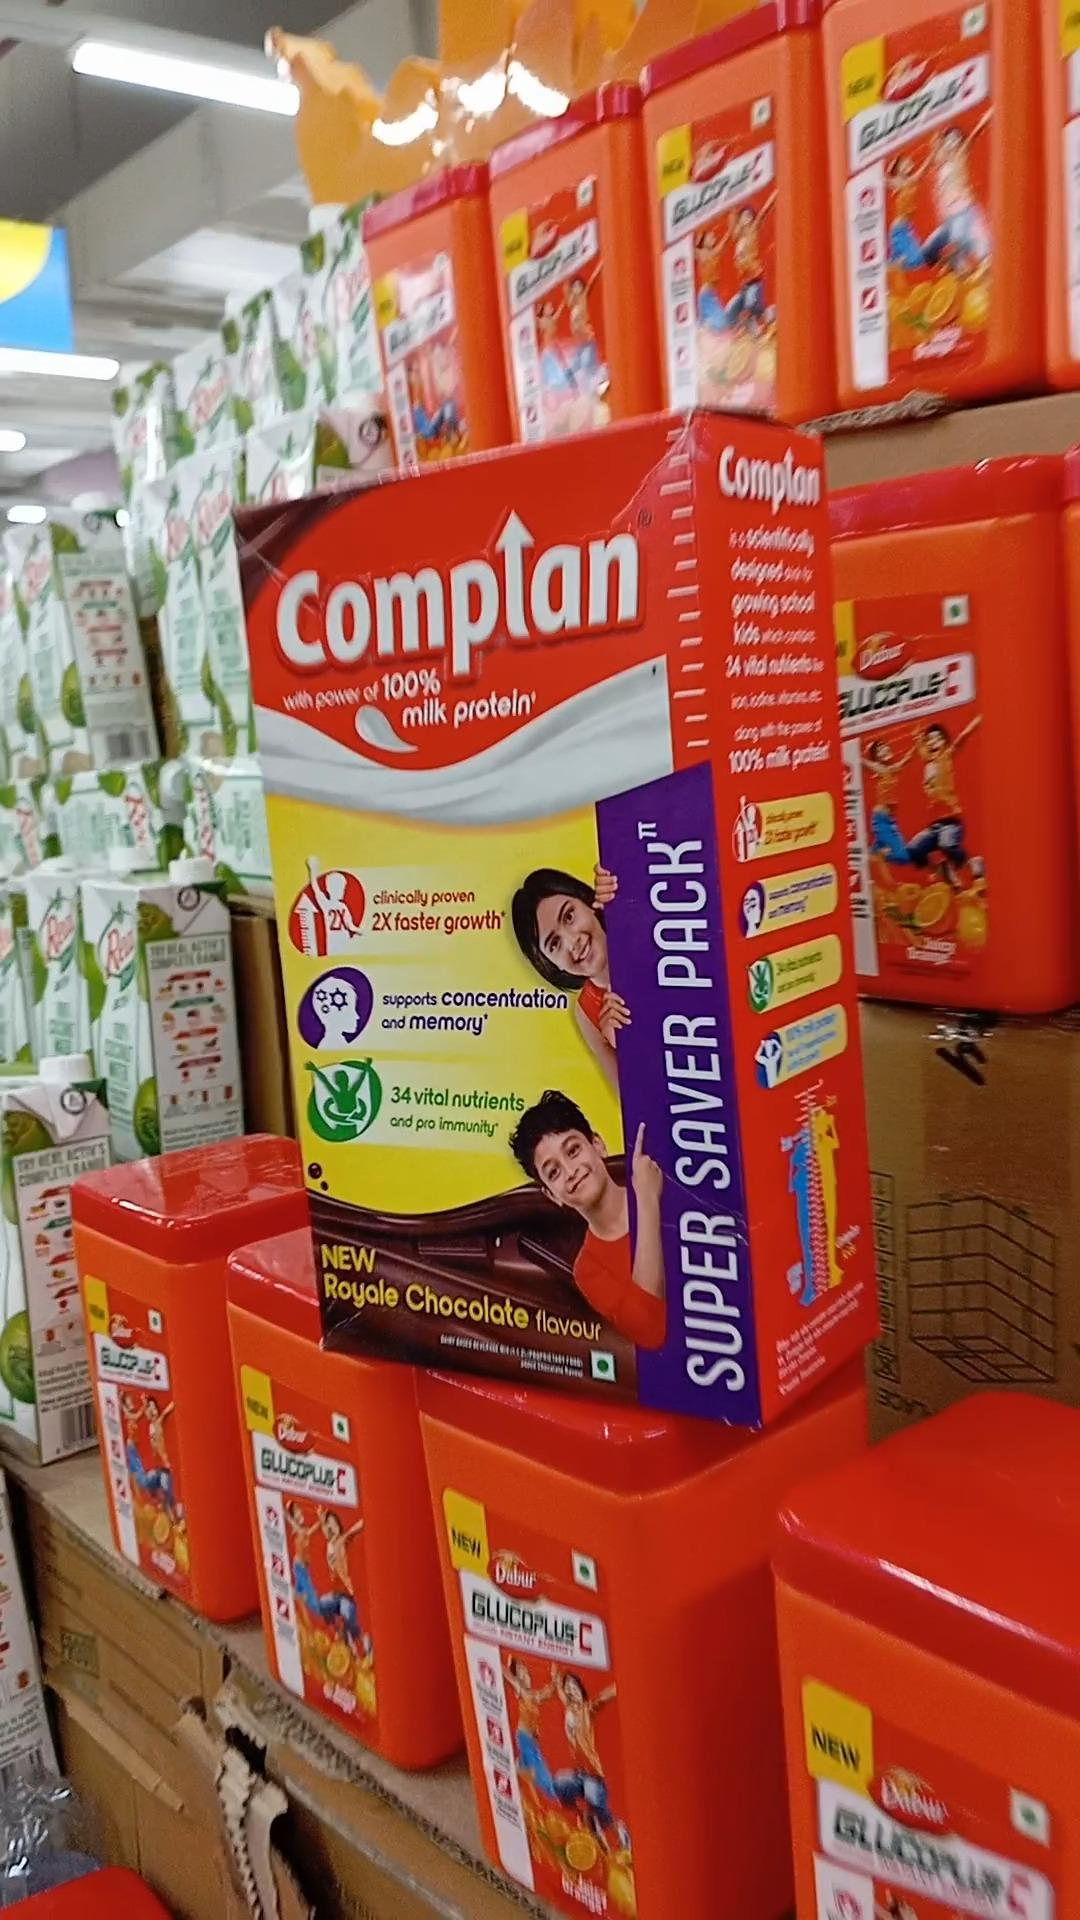COMPLAN_CHOCOLATE_1_KG_PACK: (256, 425, 740, 1419)
